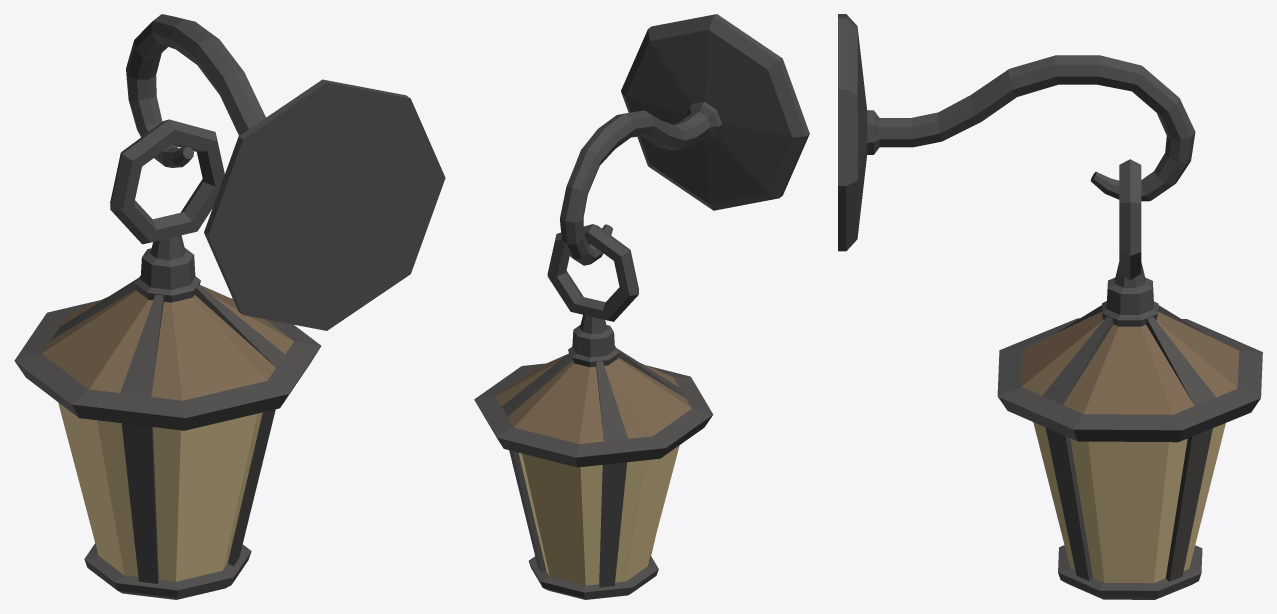
The model's file is wall_lamp.fbx.
3 renders of one model, left to right at view 1: azimuth 30°, elevation 25°; view 2: azimuth 150°, elevation 25°; view 3: azimuth 270°, elevation 25°, orthographic. The views are drawn at different scales.
Parts seen in each view (by area): view 1: Wall_Lamp; view 2: Wall_Lamp; view 3: Wall_Lamp.
Boxes of the visible parts, x1,y1,x2,y2 form: Wall_Lamp: [14, 14, 445, 599]; Wall_Lamp: [474, 14, 809, 599]; Wall_Lamp: [838, 14, 1262, 599].
Size of the model in its own units: 27.79 by 64.2 by 44.49.
